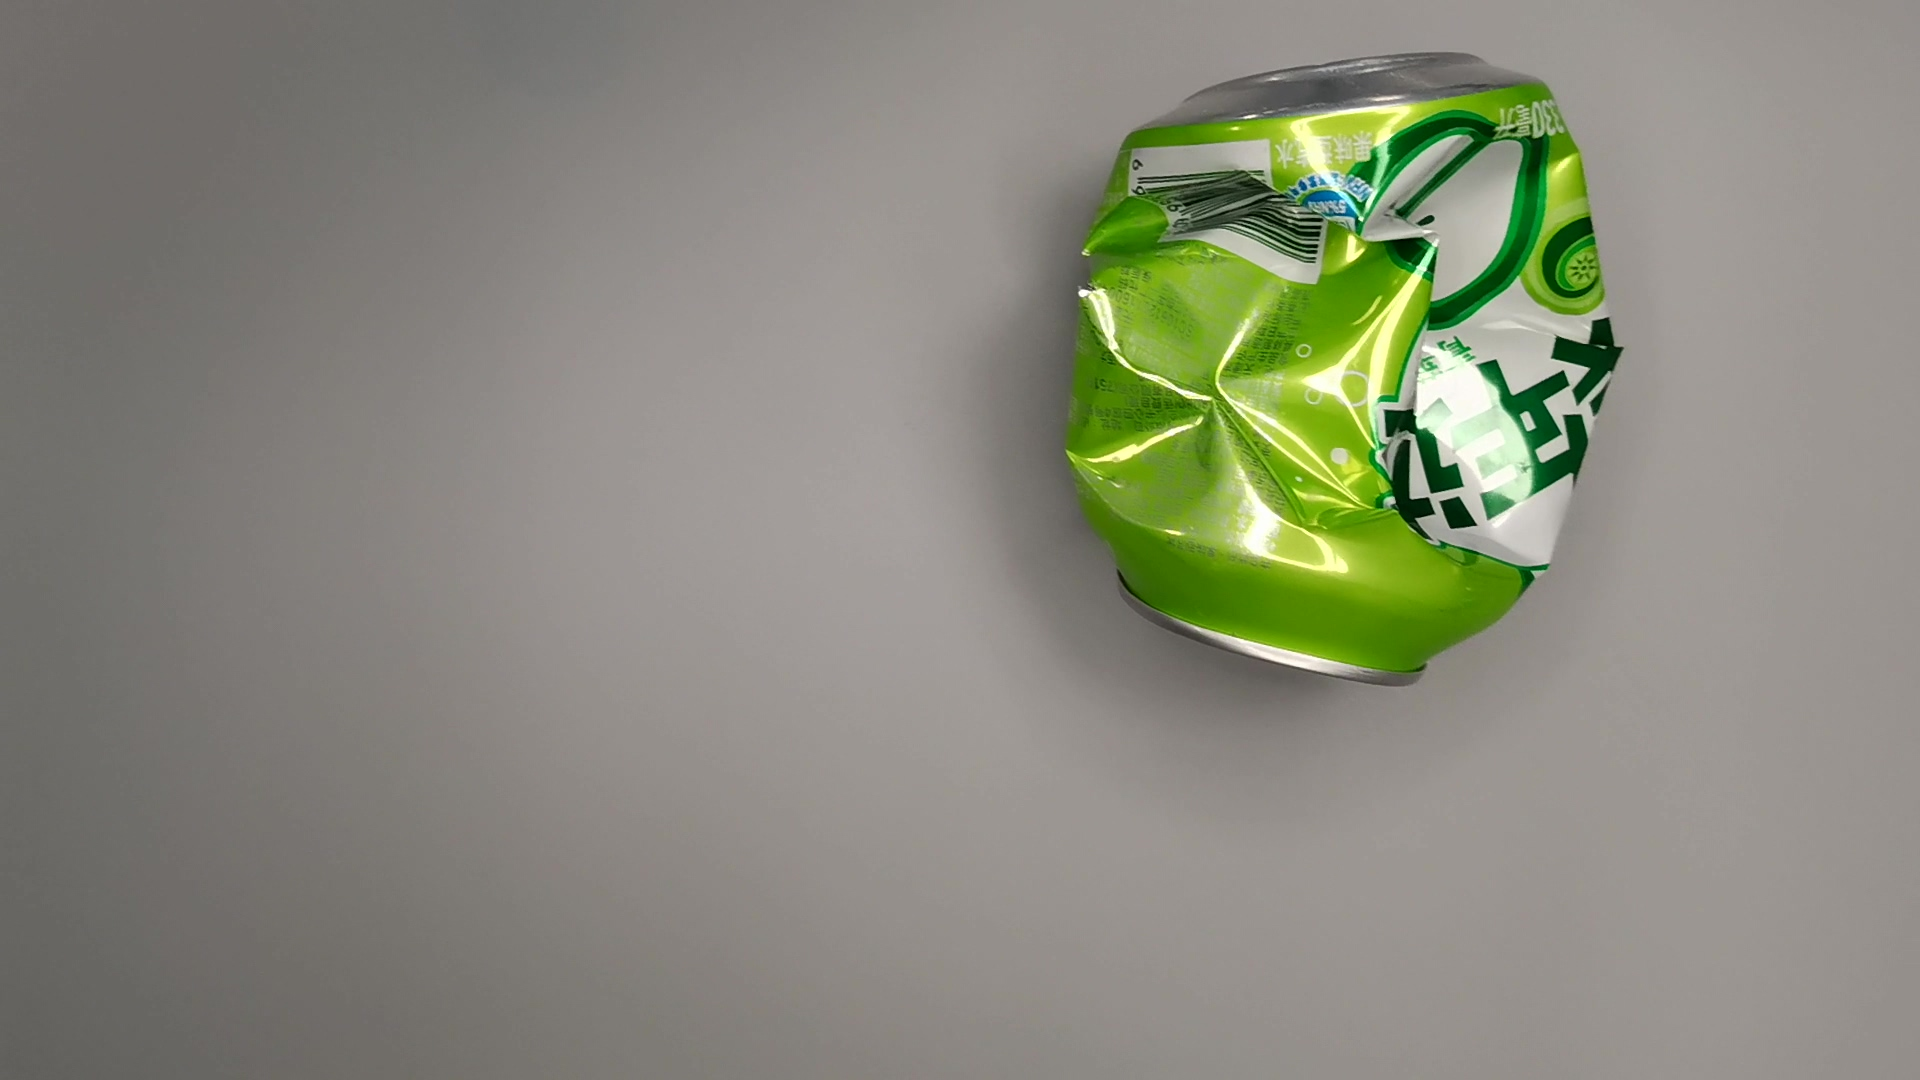can: (1047, 30, 1643, 704)
